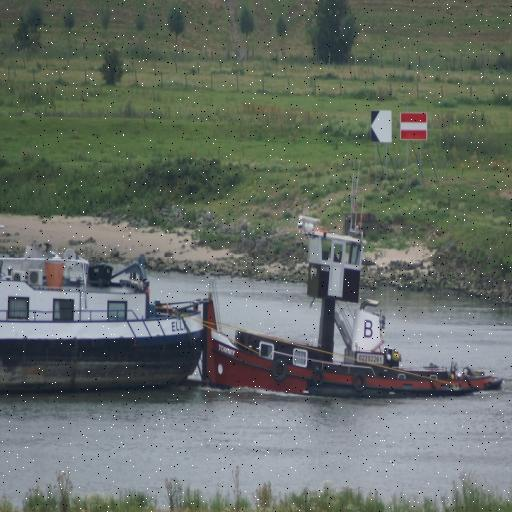tugboat: (199, 218, 508, 414)
